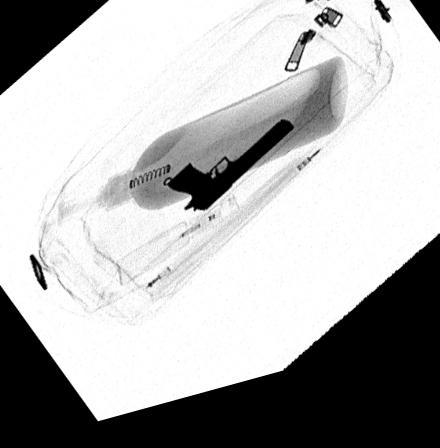Gun: (164, 134, 297, 224)
